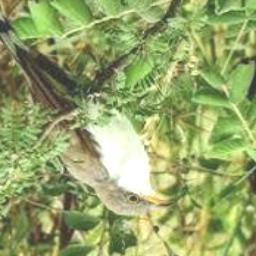Cuckoo: (0, 0, 177, 215)
